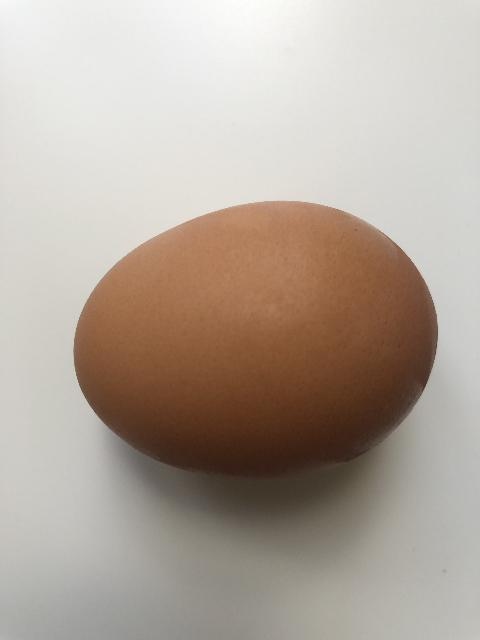Sano: (72, 198, 439, 480)
